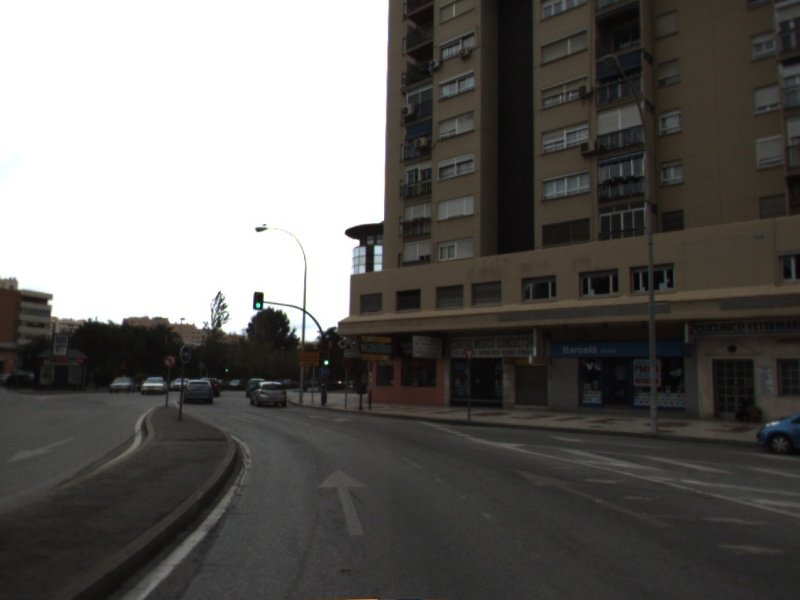STRAIGHT: (512, 466, 673, 529), (314, 466, 370, 539)
